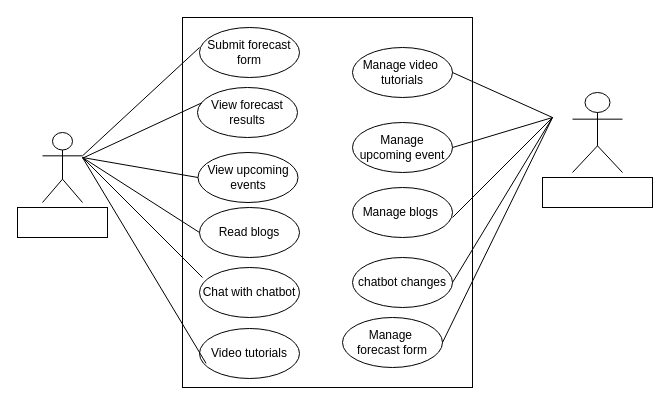
This 670x405 diagram has some shape labels left out. Each missing label, with the box of its shape:
Admin: (542, 176, 652, 208)
visitor/user: (16, 206, 108, 238)
